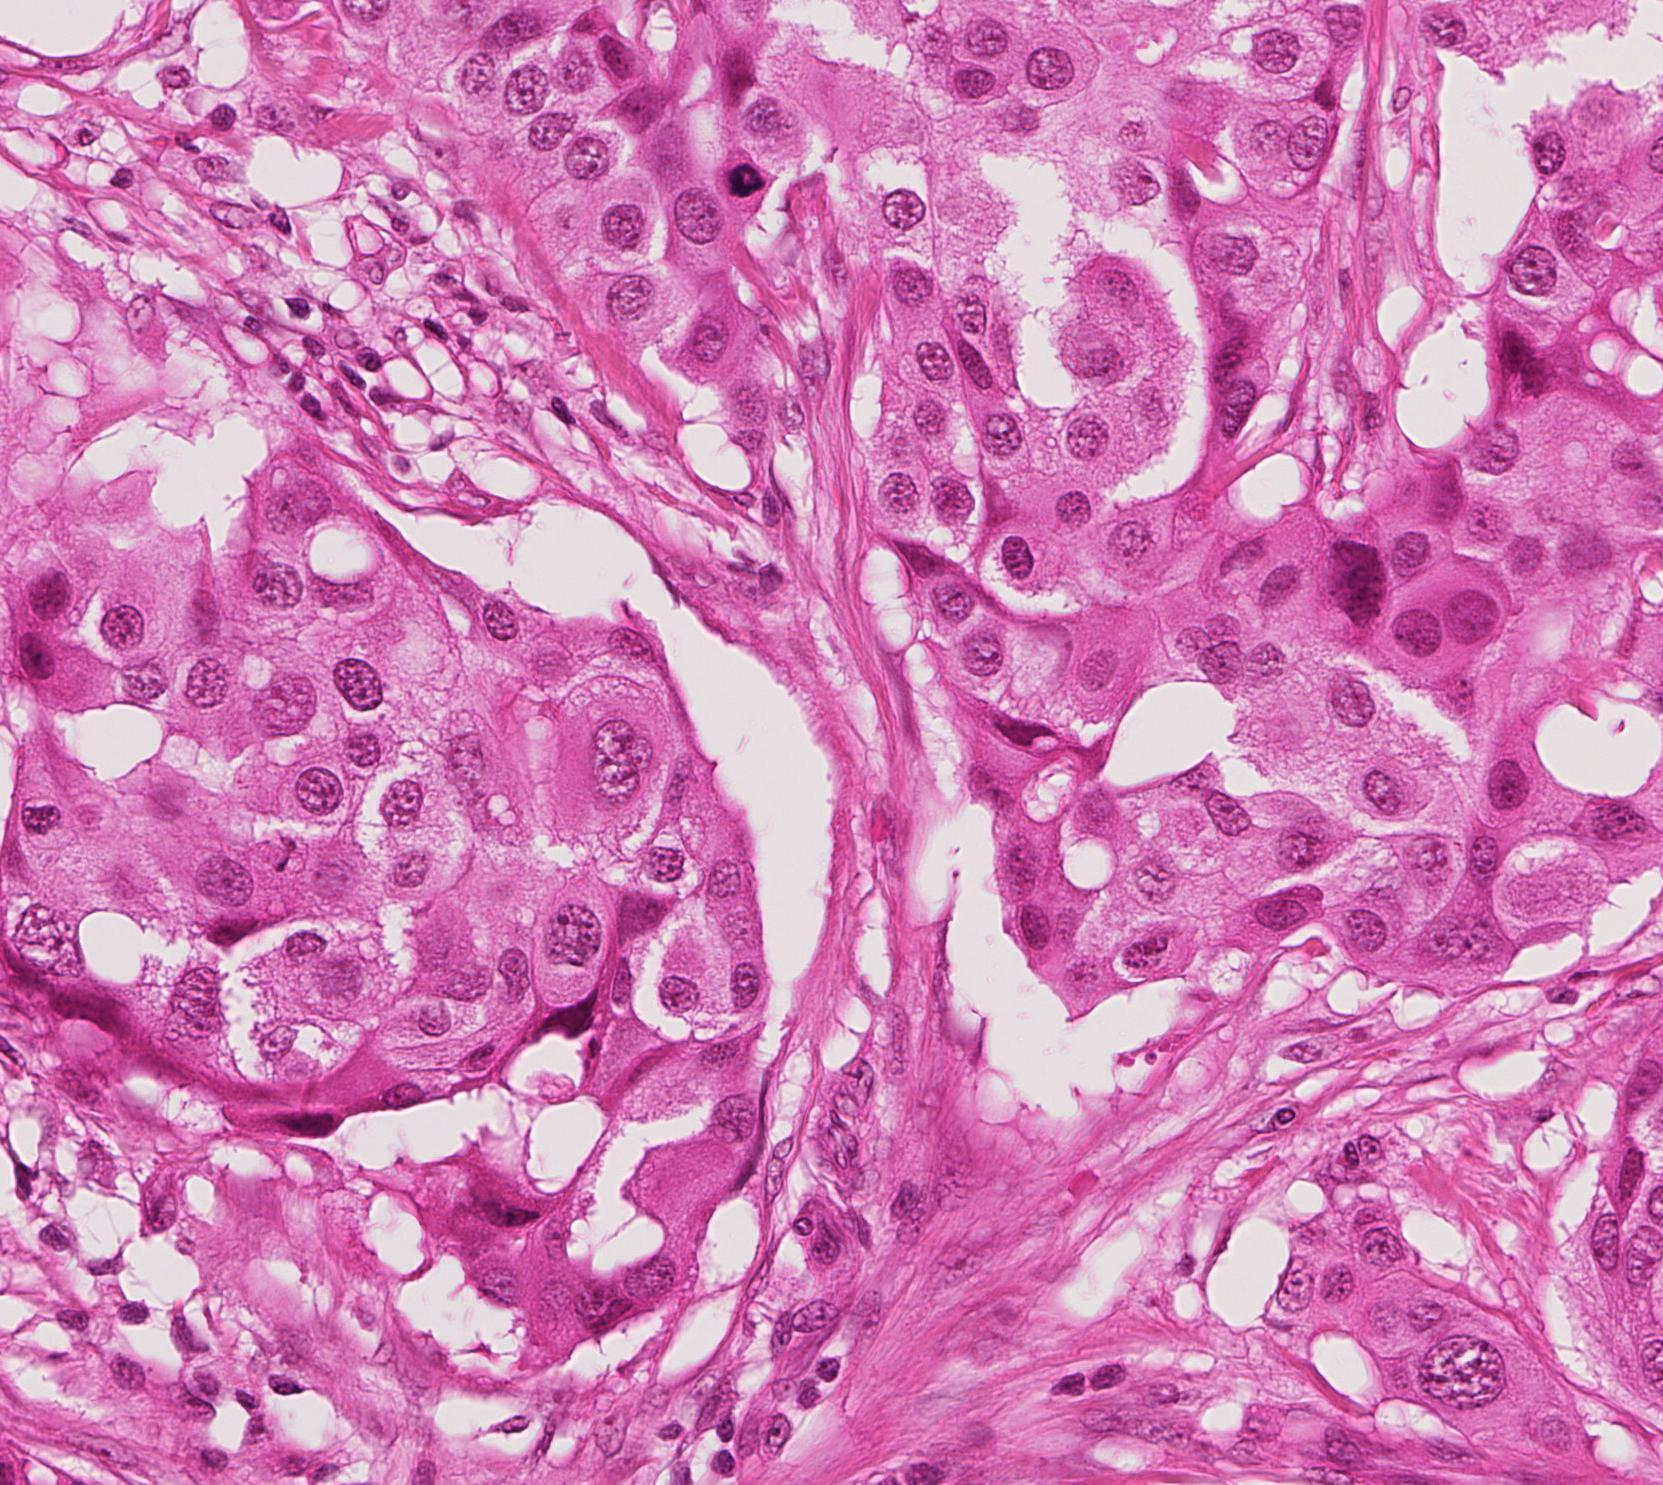mitosis: (710, 148, 770, 206)
